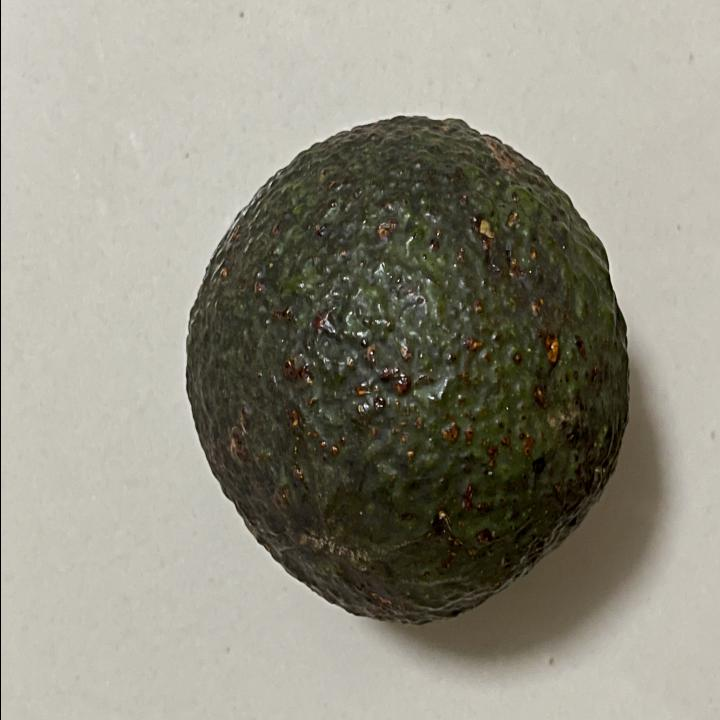Level1: (168, 95, 644, 640)
